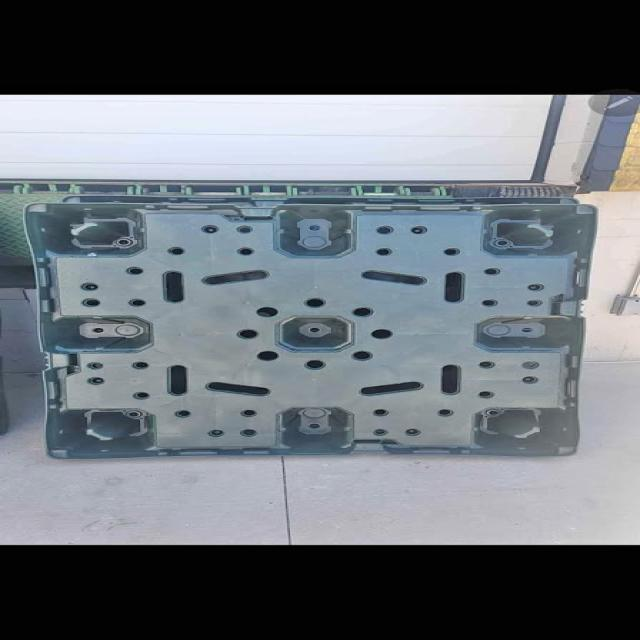non-igps: (17, 193, 605, 463)
